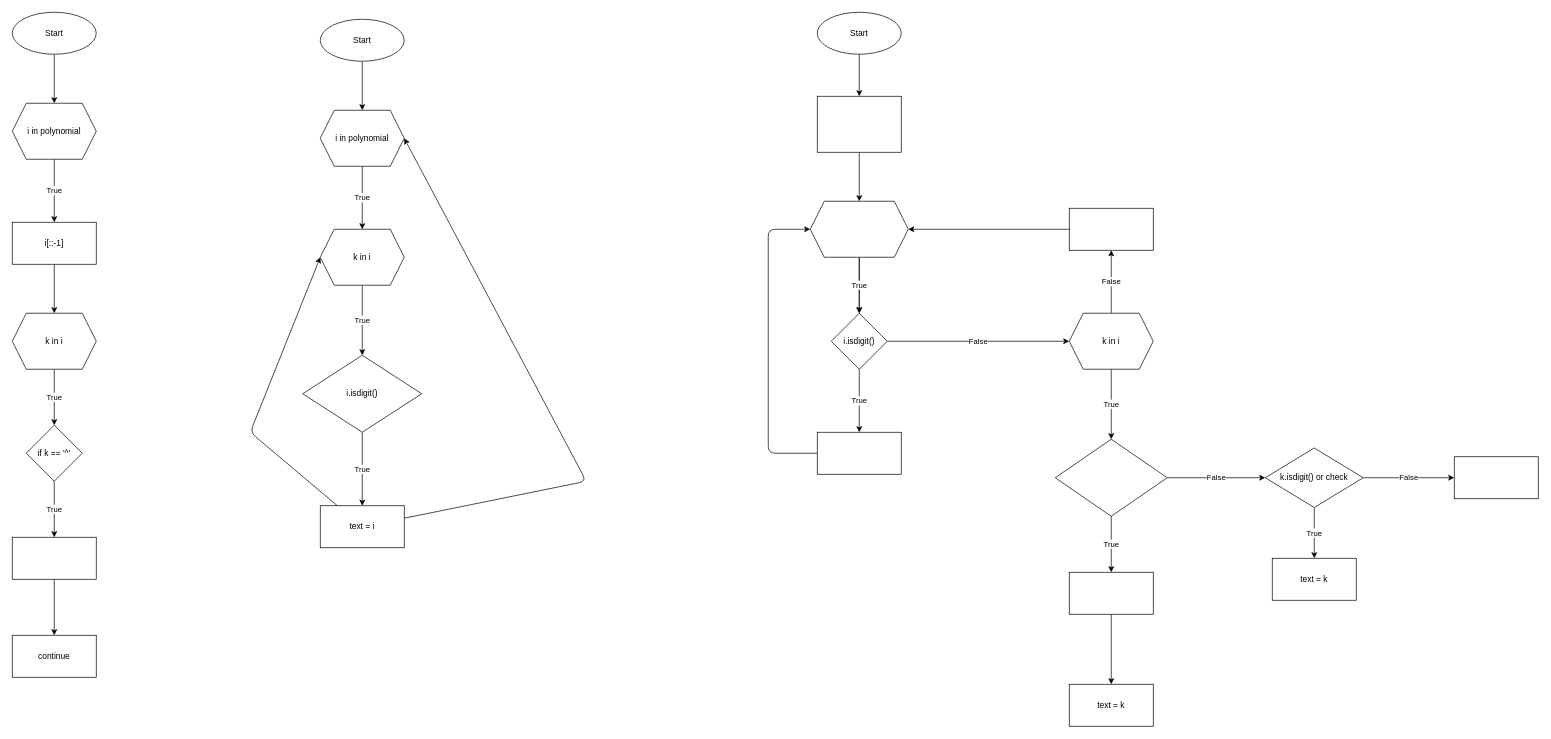
This 1551x739 diagram has some shape labels left out. The shapes that lost their labels are listed below. From the top down, each one's box as (x1, y1, x2, y2) in pixels, then its label:
(817, 96, 901, 152): coef = [] list = [] pol_text = '' coef = '' check = False
(810, 201, 908, 257): i in variable_polinomial
(1069, 208, 1153, 250): list.append(text) text = ''
(817, 432, 901, 474): coef.append(i) continue
(1055, 439, 1167, 516): not k.isdigit() and not check
(1454, 456, 1538, 499): coef.append(i)
(12, 537, 96, 579): list_pol
(1069, 572, 1153, 614): check = True
